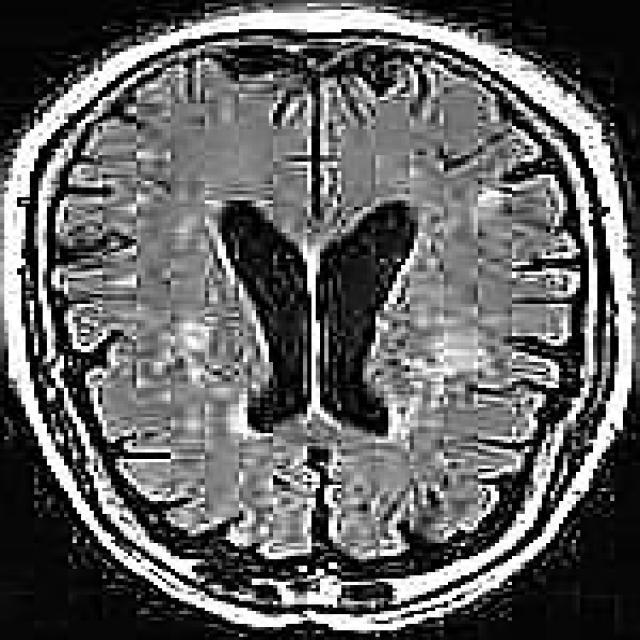notumor: (4, 6, 627, 630)
